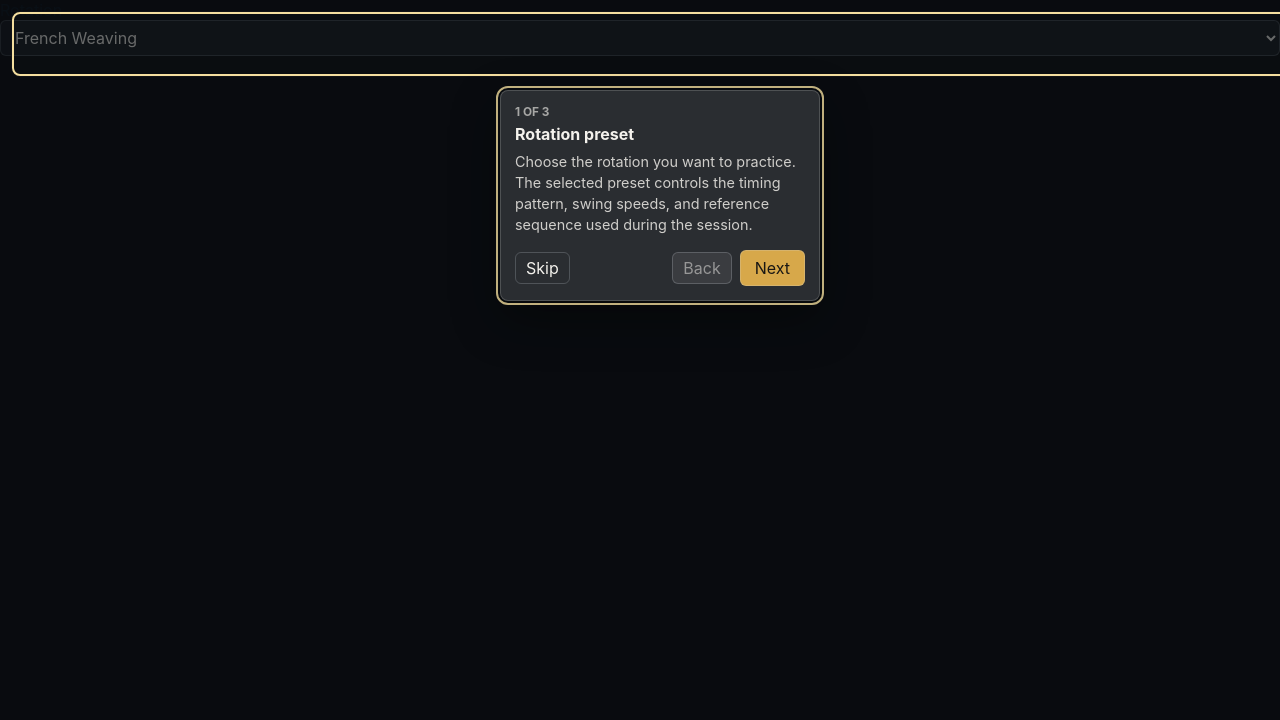
Test case: WalkthroughTour › dismisses and persists when skipped
Click the button with aria-label "Skip walkthrough".
click(542, 268)  # box [515, 252, 570, 284]
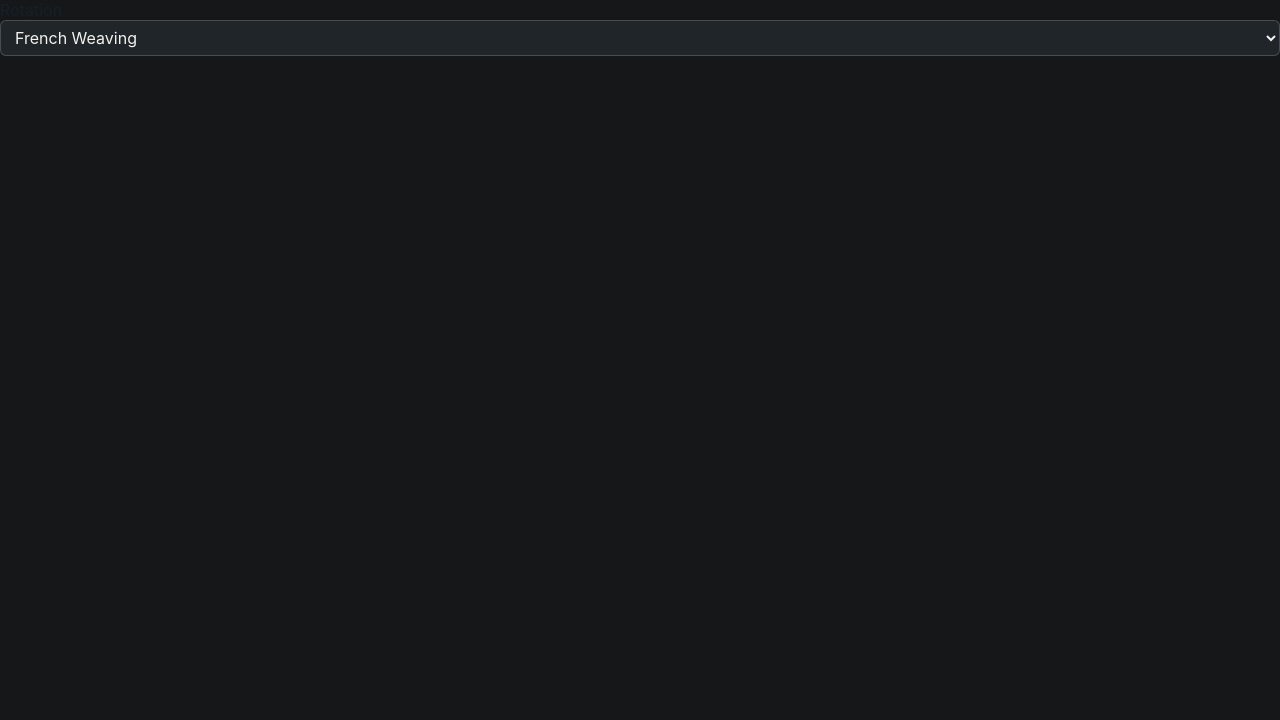
Result: the dialog is gone
